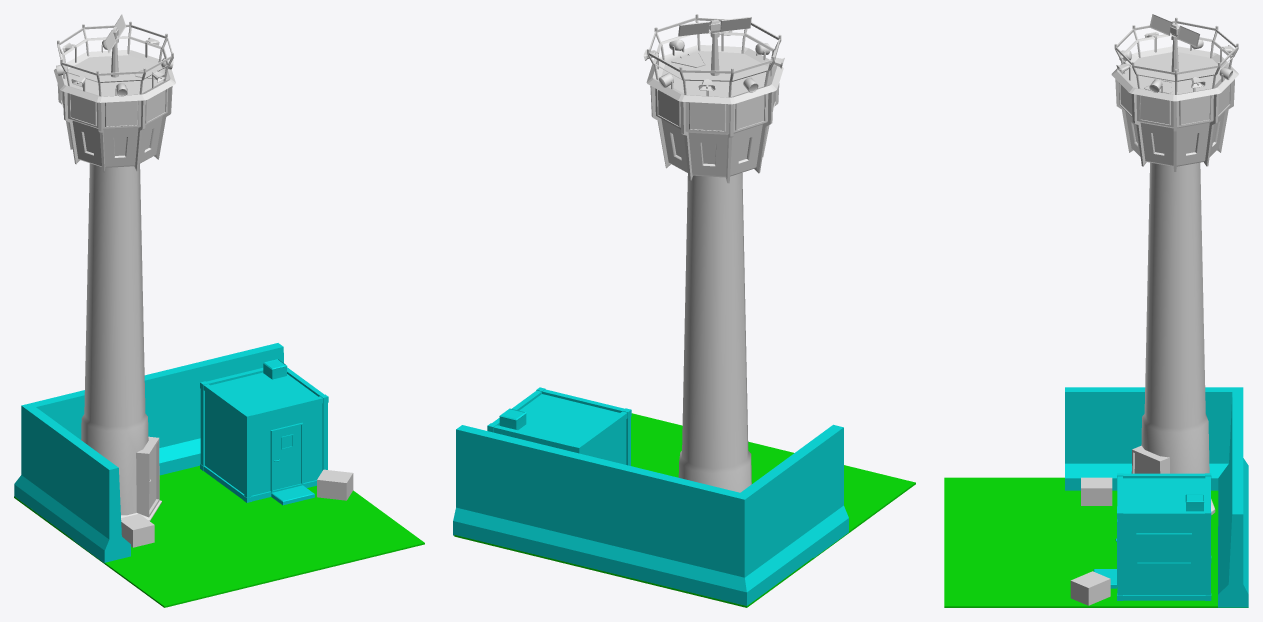
File: Outpost Modelling Low.fbx
3 views of the same model, side by side, from view 1: azimuth 30°, elevation 25°; view 2: azimuth 150°, elevation 25°; view 3: azimuth 270°, elevation 25° (orthographic). The views are drawn at different scales.
Visible parts, largest first — view 1: Outpostlow; view 2: Outpostlow; view 3: Outpostlow.
Boxes of the visible parts, left/top/right/bottom form: Outpostlow: left=14, top=14, right=424, bottom=607; Outpostlow: left=453, top=14, right=915, bottom=607; Outpostlow: left=944, top=14, right=1248, bottom=607.
Size of the model in its own units: 3.99 by 7 by 3.97.
